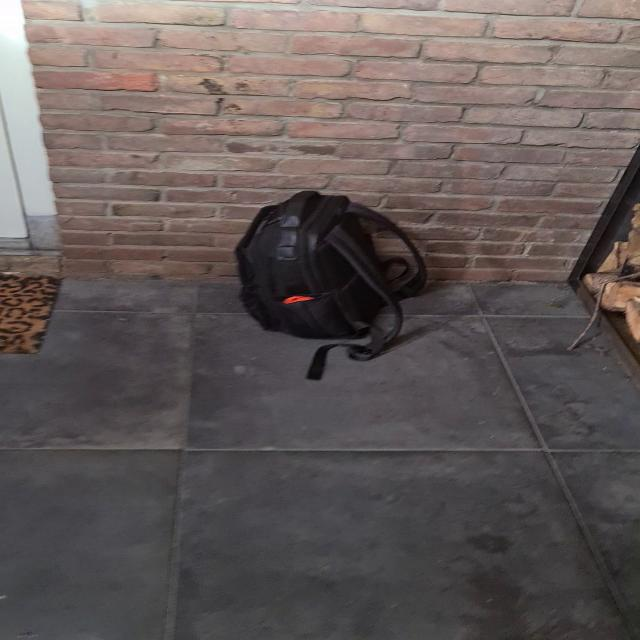backpack: (226, 186, 429, 355)
